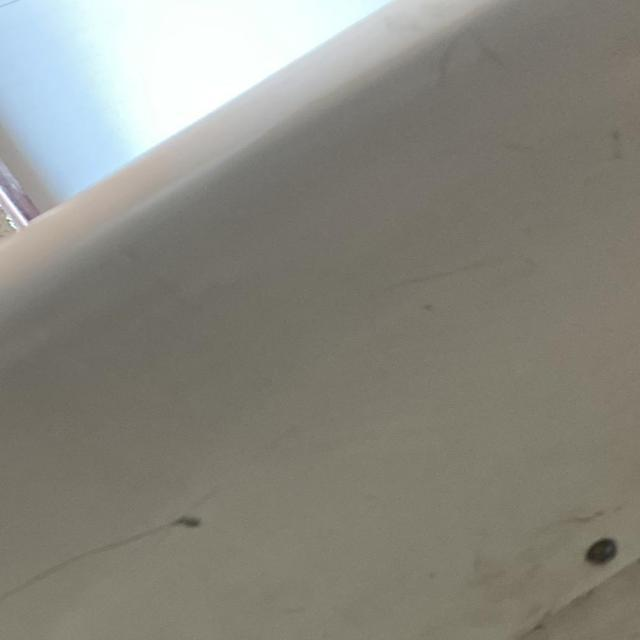Missing-head: (585, 536, 618, 564)
Paint-off: (171, 513, 201, 527)
